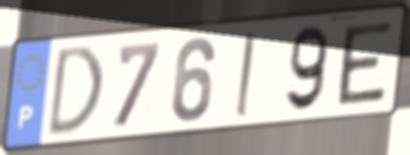6: (169, 34, 217, 125)
7: (114, 38, 163, 131)
9: (283, 23, 331, 114)
D: (44, 42, 107, 141)
E: (336, 19, 395, 108)
I: (233, 29, 257, 119)
